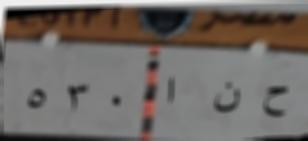0: (106, 82, 130, 118)
3: (63, 78, 90, 115)
5: (22, 79, 52, 117)
7aa: (256, 85, 295, 123)
alif: (163, 68, 187, 109)
noon: (210, 79, 245, 118)
